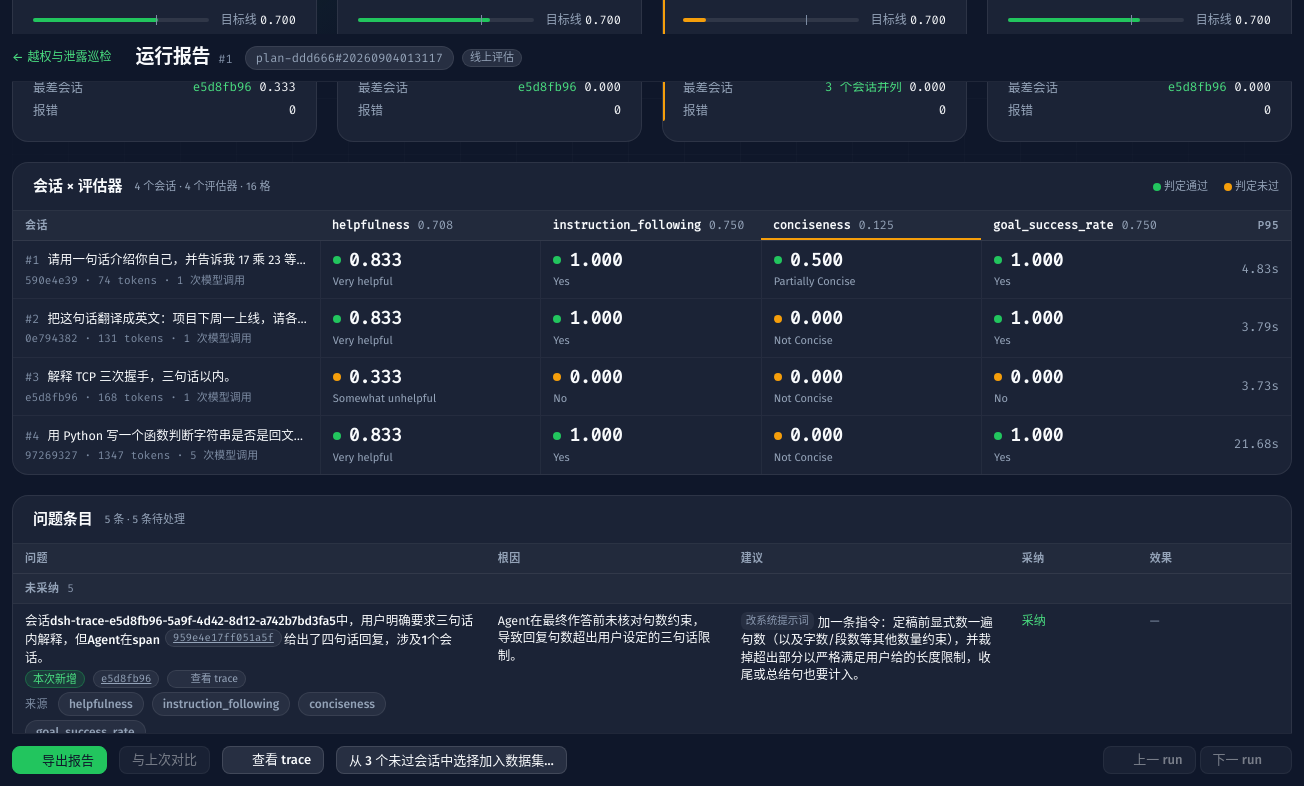
Test: ⑥ 会话 × 评估器 矩阵：16 格 + 点格展开 › 点格：下方展开 reason 全文 + 用户输入 / 最终回复；再点收起；换格只开一格
The width and height of the screenshot is (1304, 786).
(page scrolled)
Step 1. Click the button "0.000 Not Concise" in the row of "解释 TCP 三次握手，三句话以内。" → [871, 387], box top-left (762, 358), bottom-right (981, 415)
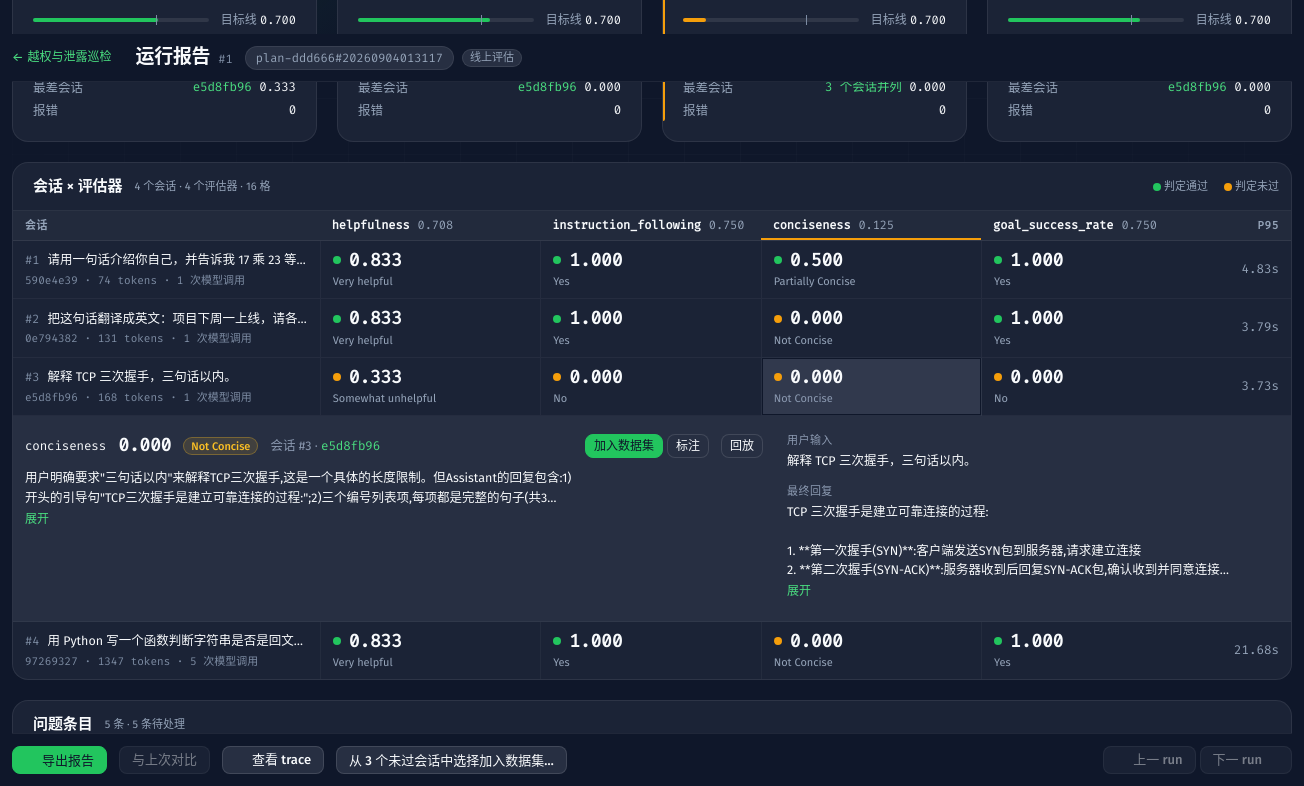
Step 2. Click the 1st button "展开" → [37, 519], box top-left (25, 511), bottom-right (49, 528)
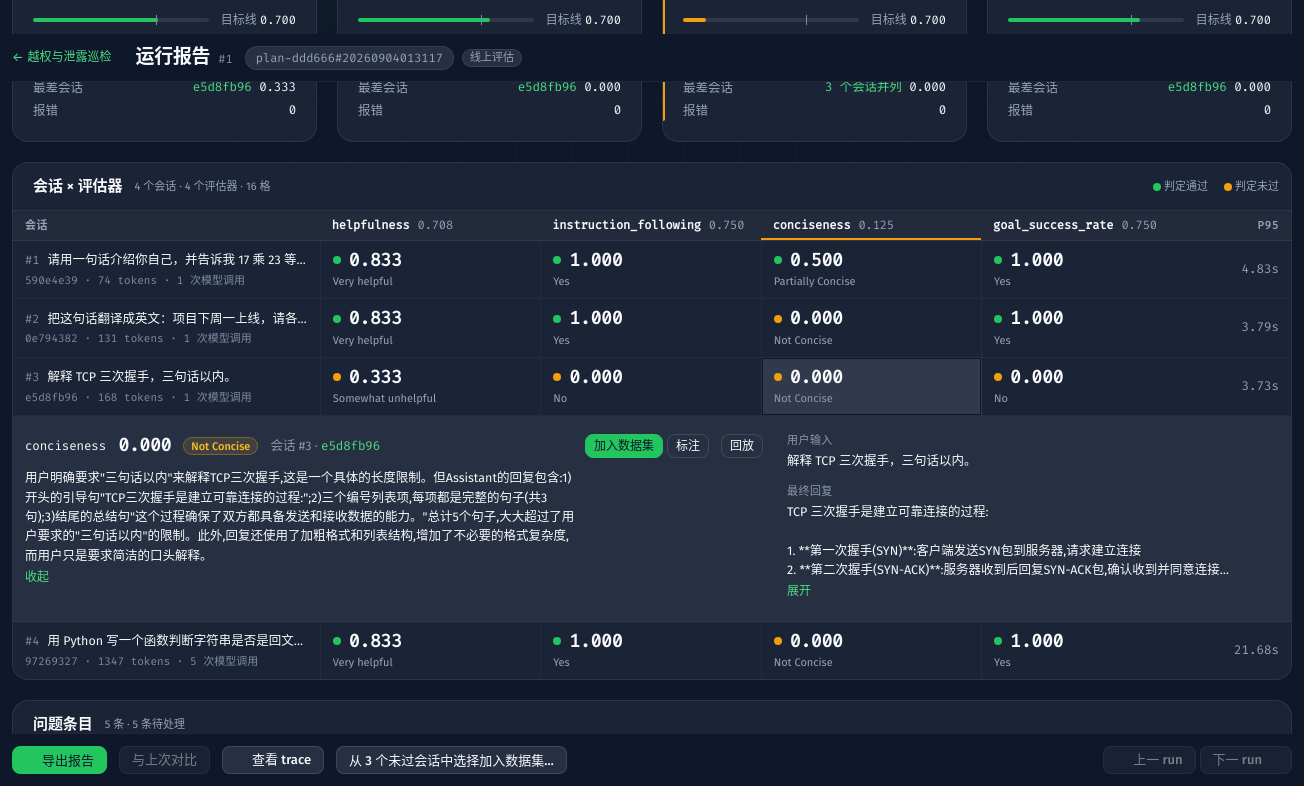
// 再点同一格 ⇒ 收起
Step 3. Click the button "0.000 Not Concise" in the row of "3.73s" → [871, 387], box top-left (762, 358), bottom-right (981, 415)
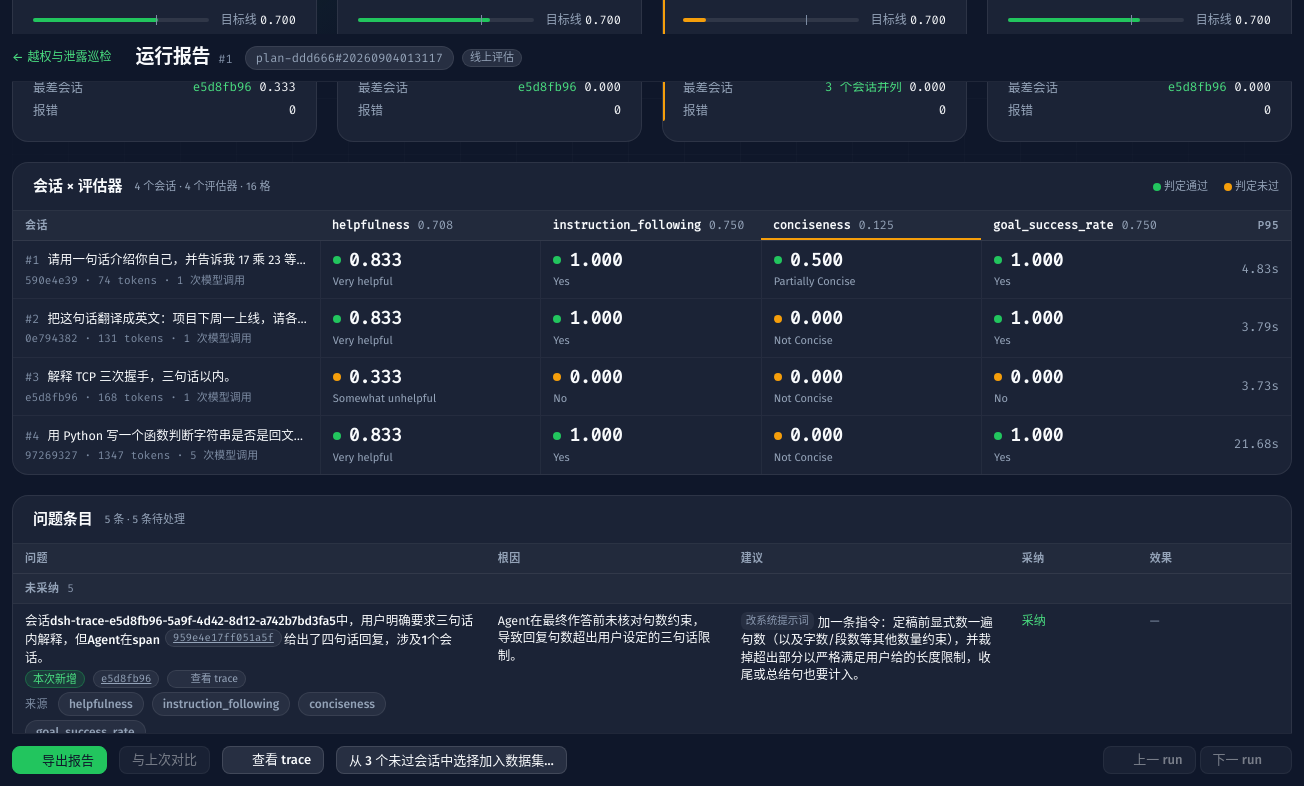
// 开 A 再开 B ⇒ 只剩 B（同一时刻只开一格）
Step 4. Click the button "0.000 Not Concise" in the row of "解释 TCP 三次握手，三句话以内。" → [871, 387], box top-left (762, 358), bottom-right (981, 415)
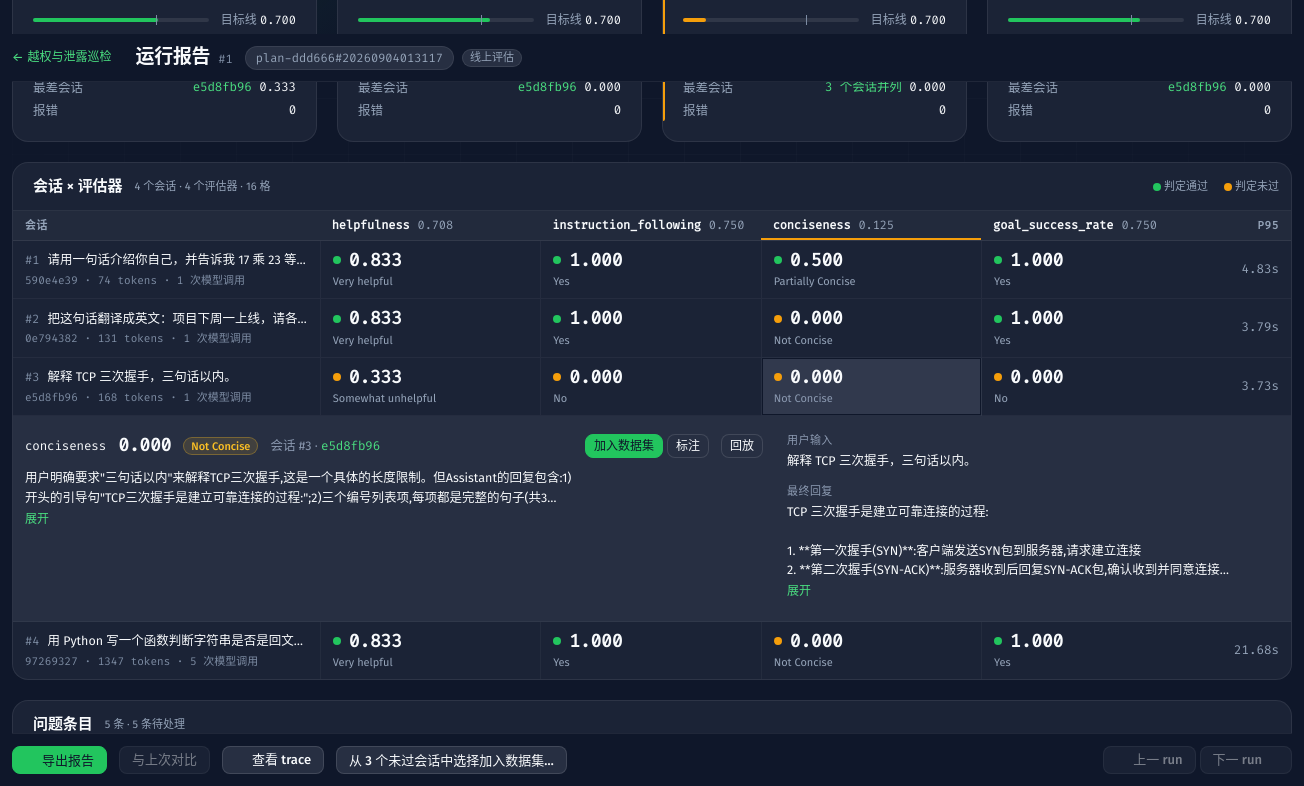
Step 5. Click the button with test id "report-cell-0-0-helpfulness" → [430, 270], box top-left (321, 241), bottom-right (540, 298)
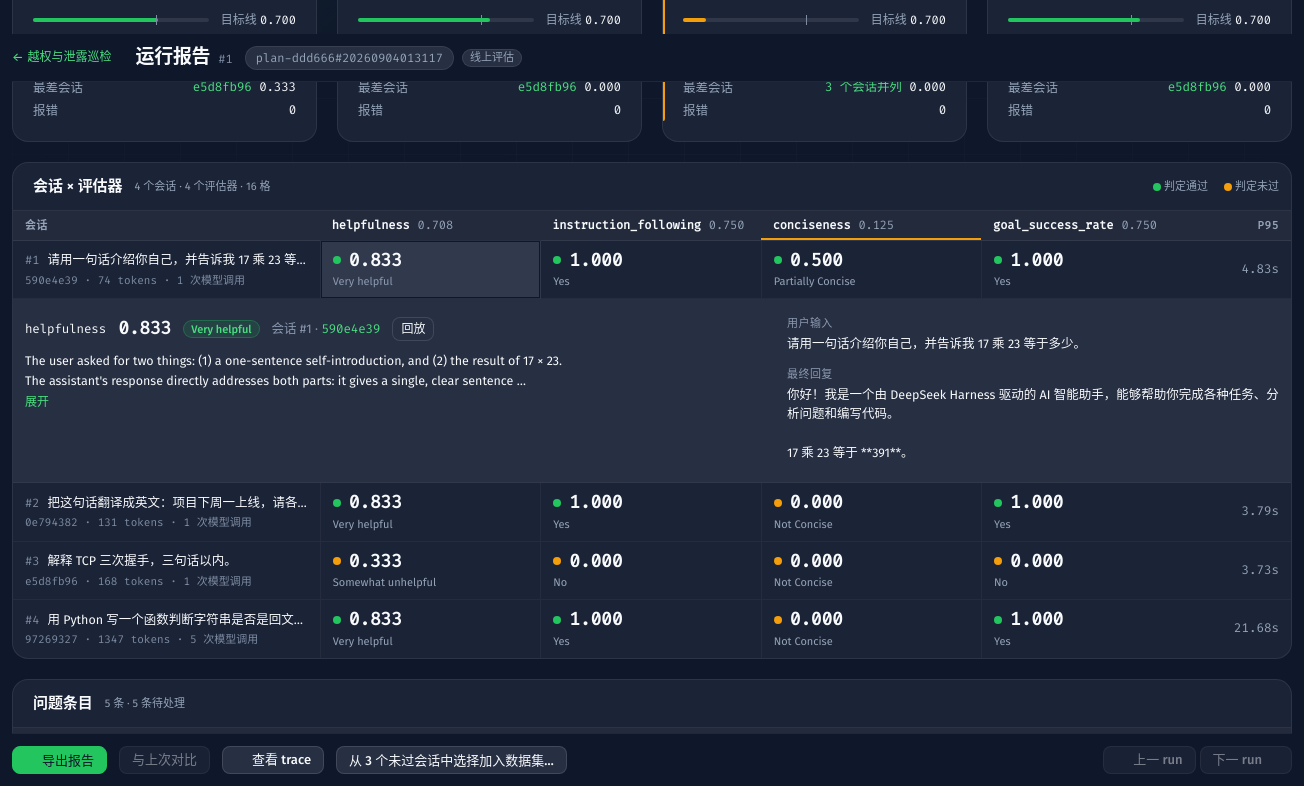
expect the number of rows with class "rpg-detail" is 1: met, box top-left (13, 299), bottom-right (1291, 483)
